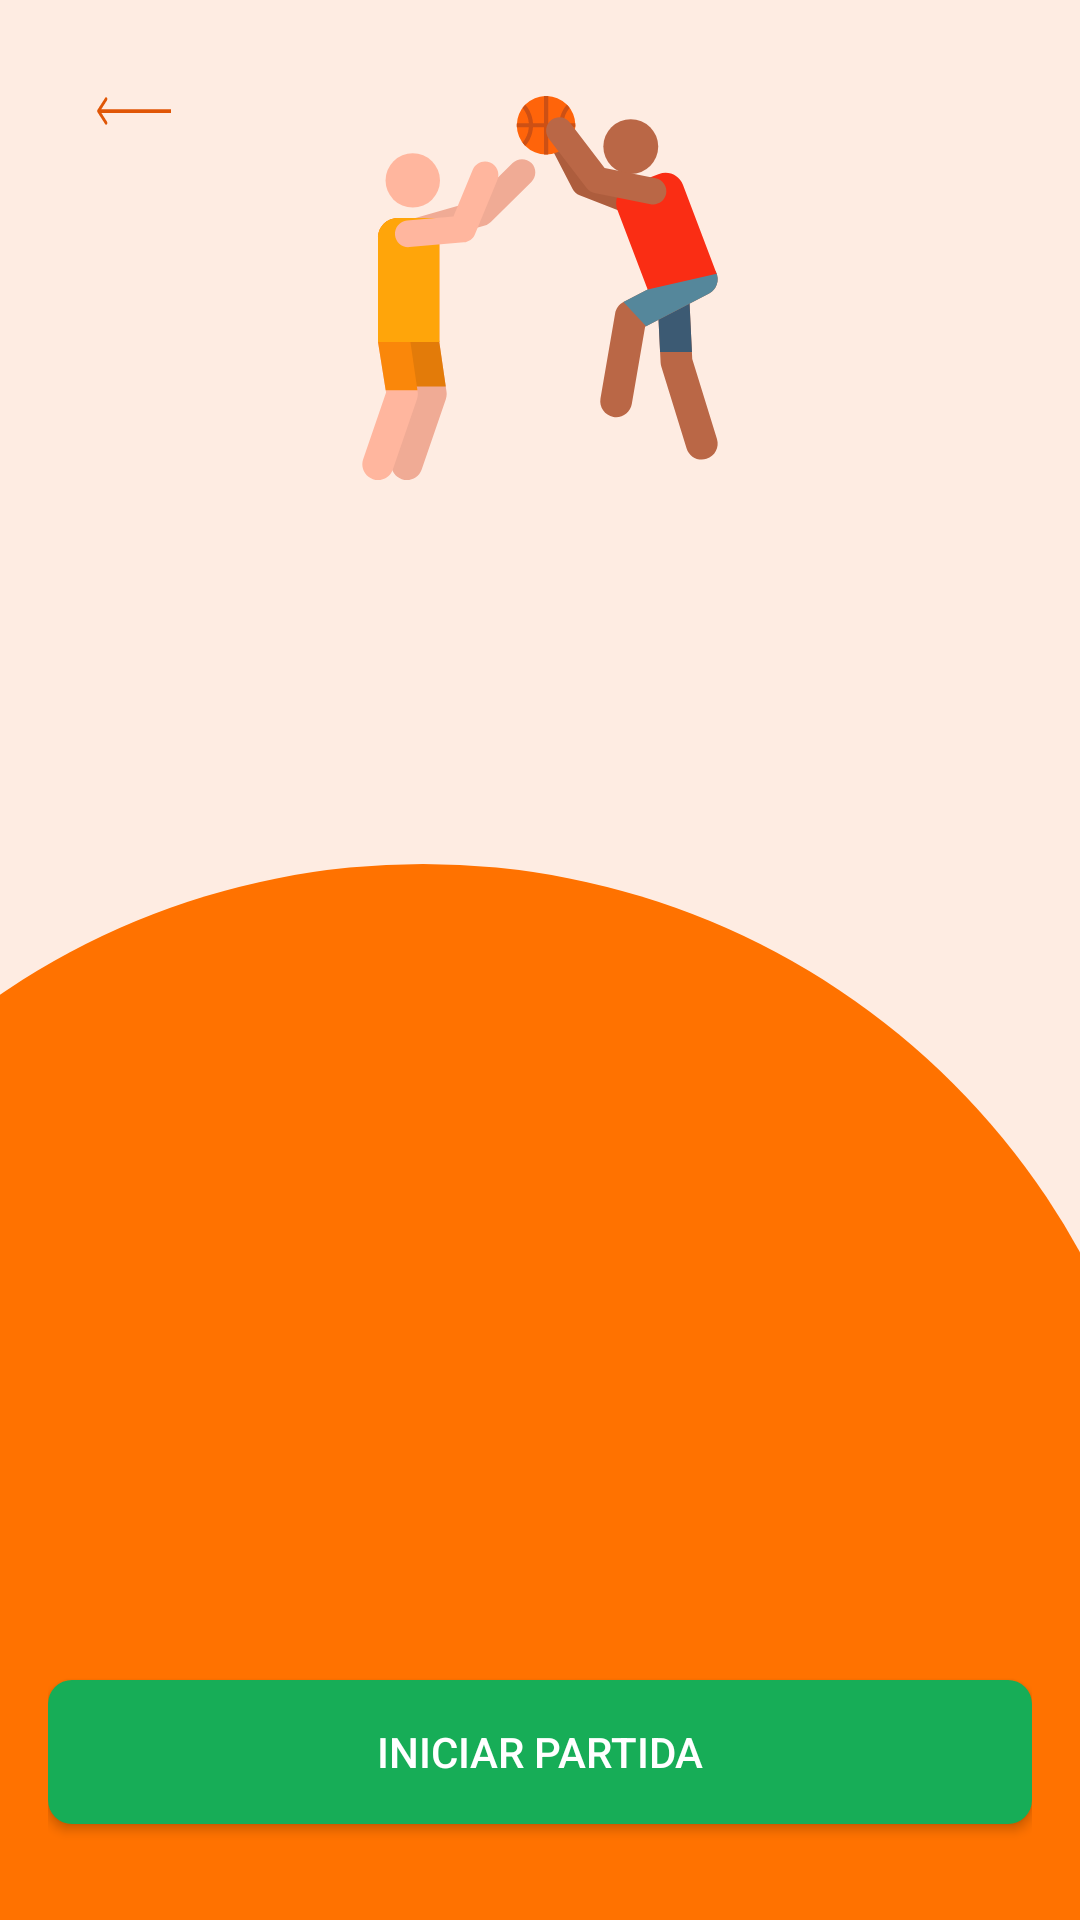

Icon click points for this 1080x1920 phone screenshot, format [x,y]:
arrow: [134,111]
